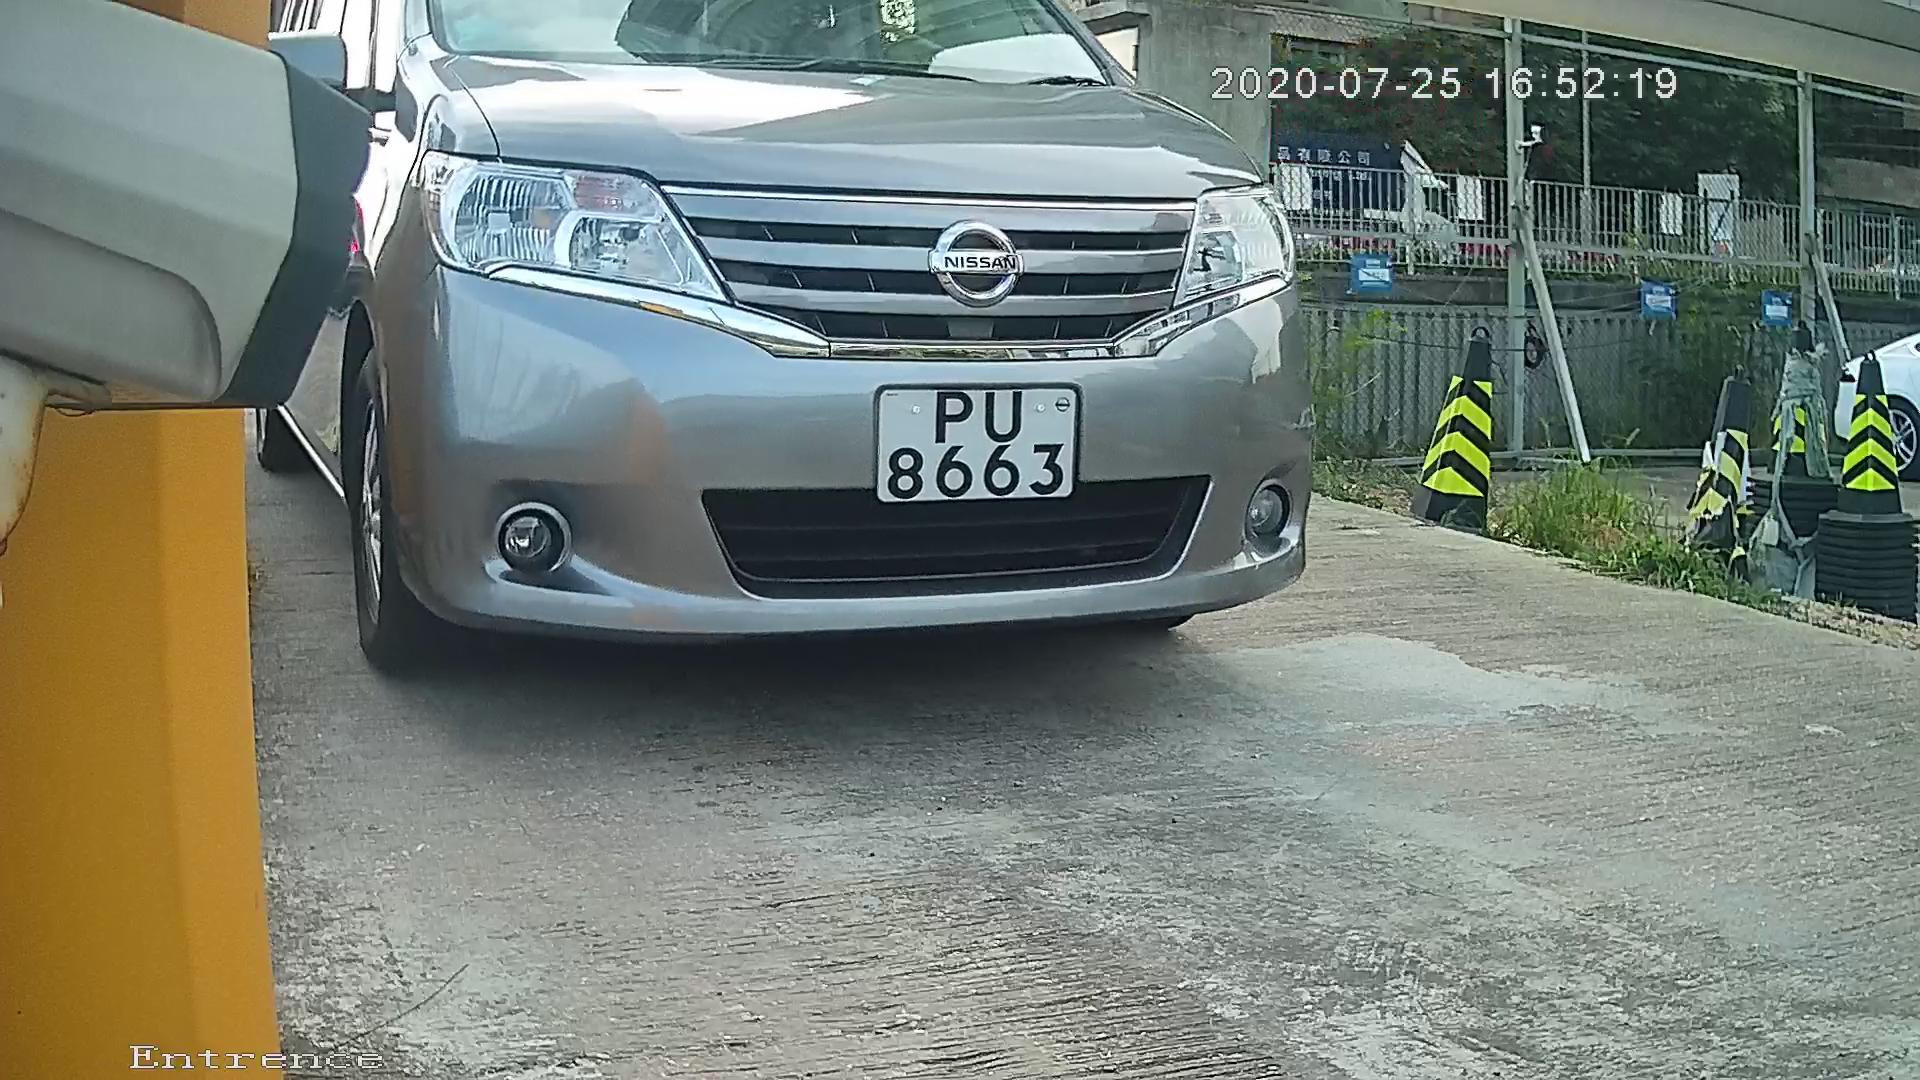License Plate: (849, 367, 1089, 521)
